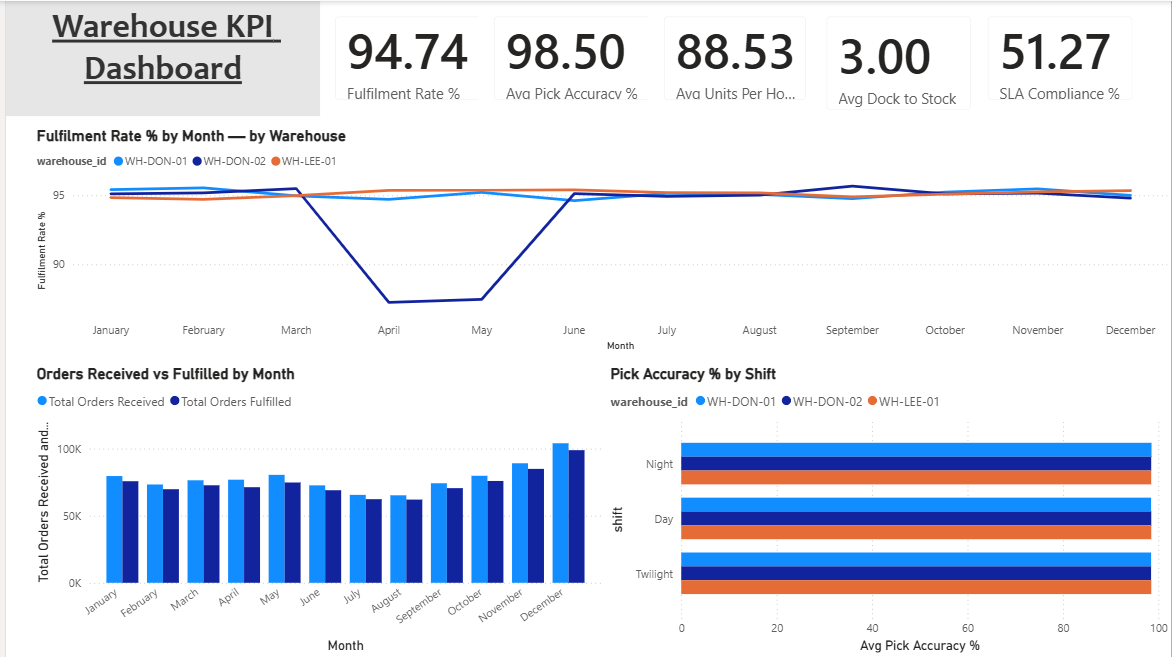

The dashboard page shown, as its layout file describes it:
{"tool":"powerbi","page":{"name":"Page 1","canvas":[1280,720],"ordinal":0},"visuals":[{"type":"cardVisual","fields":{"Data":["warehouse_ops.Fulfilment Rate %"]},"box":[344.4,0,199,126.2],"z":0},{"type":"cardVisual","fields":{"Data":["warehouse_ops.Avg Pick Accuracy %"]},"box":[518.7,0,216.8,126.2],"z":1000},{"type":"cardVisual","fields":{"Data":["warehouse_ops.Avg Units Per Hour"]},"box":[705.3,0,190.7,126.2],"z":2000},{"type":"cardVisual","fields":{"Data":["warehouse_ops.Avg Dock to Stock"]},"box":[883.7,0,193.5,137.2],"z":3000},{"type":"cardVisual","fields":{"Data":["warehouse_ops.SLA Compliance %"]},"box":[1060.7,0,193.5,126.2],"z":4000},{"type":"lineChart","title":"Fulfilment Rate % by Month — by Warehouse","fields":{"Category":["warehouse_ops.date.Variation.Date Hierarchy.Month"],"Y":["warehouse_ops.Fulfilment Rate %"],"Series":["warehouse_ops.warehouse_id"]},"box":[28.8,137.2,1251.5,252.5],"z":5000},{"type":"clusteredColumnChart","title":"Orders Received vs Fulfilled by Month","fields":{"Category":["warehouse_ops.date.Variation.Date Hierarchy.Month"],"Y":["warehouse_ops.Total Orders Received","warehouse_ops.Total Orders Fulfilled"]},"box":[28.8,399.3,629.8,321.1],"z":6000},{"type":"clusteredBarChart","title":"Pick Accuracy % by Shift","fields":{"Category":["warehouse_ops.shift"],"Y":["warehouse_ops.Avg Pick Accuracy %"],"Series":["warehouse_ops.warehouse_id"]},"box":[658.7,399.3,621.6,321.1],"z":7000},{"type":"textbox","box":[0,0,344.4,126.2],"z":7001}]}

Visuals, with their boxes in screenshot pixels (x1, y1, x2, y2), scaled from the page's 1280x720 canvas onto the 1172x657 screenshot:
cardVisual - warehouse_ops.Fulfilment Rate %: region(315, 0, 498, 115)
cardVisual - warehouse_ops.Avg Pick Accuracy %: region(475, 0, 673, 115)
cardVisual - warehouse_ops.Avg Units Per Hour: region(646, 0, 820, 115)
cardVisual - warehouse_ops.Avg Dock to Stock: region(809, 0, 986, 125)
cardVisual - warehouse_ops.SLA Compliance %: region(971, 0, 1148, 115)
"Fulfilment Rate % by Month — by Warehouse" lineChart: region(26, 125, 1171, 356)
"Orders Received vs Fulfilled by Month" clusteredColumnChart: region(26, 364, 603, 656)
"Pick Accuracy % by Shift" clusteredBarChart: region(603, 364, 1171, 656)
textbox: region(0, 0, 315, 115)
